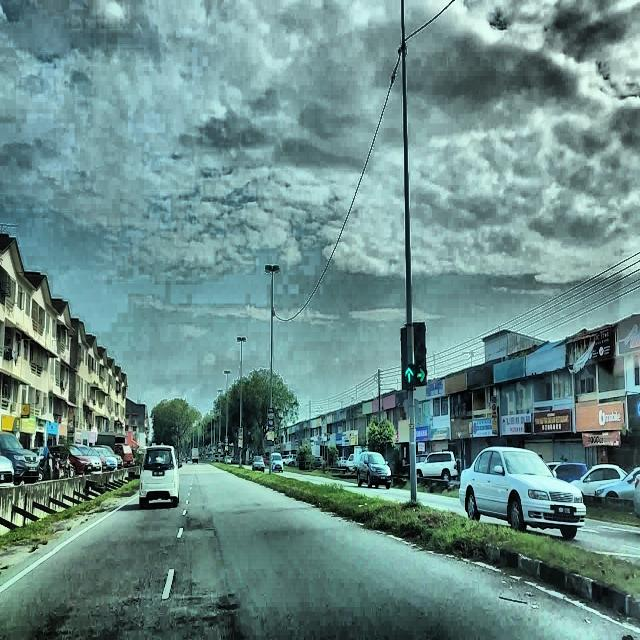green: (413, 321, 427, 387), (402, 325, 413, 386)
